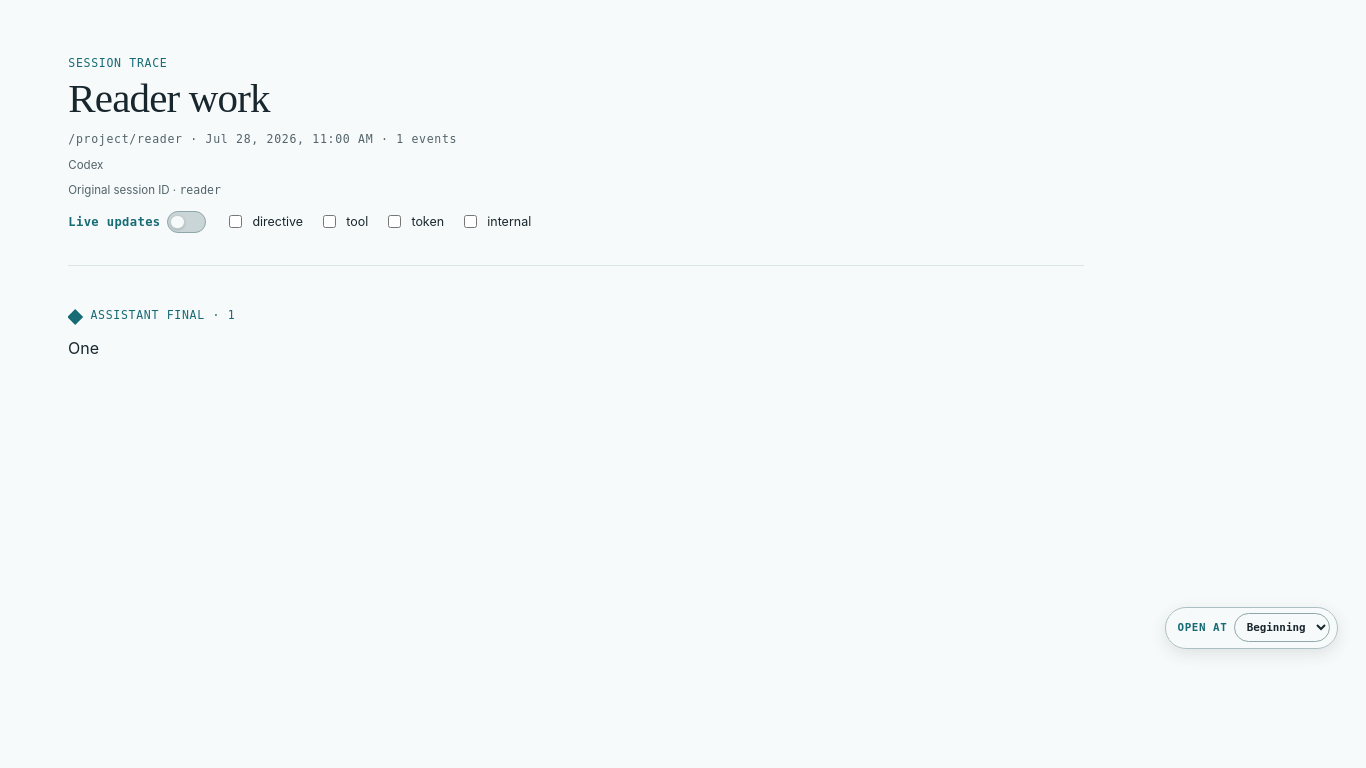
it: session Live updates › loads ordinary items pages until a multi-page Live backlog is caught up
Click the switch named "Live updates".
click(186, 222)  # box x1=167 y1=211 x2=206 y2=233
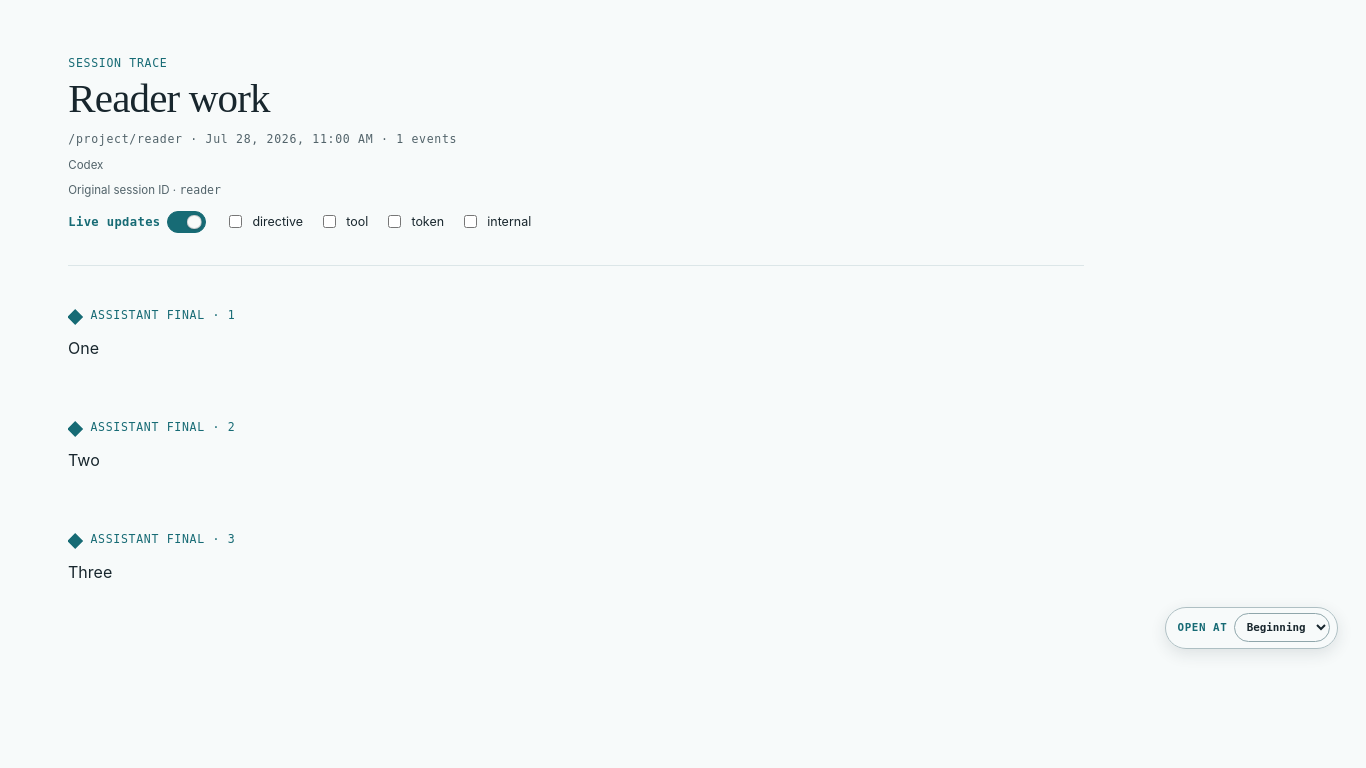
Expected: the text "One" is shown, x1=68 y1=337 x2=99 y2=357
Result: the text "Two" is shown at x1=68 y1=449 x2=100 y2=469
Result: the text "Three" is shown at x1=68 y1=561 x2=112 y2=581
